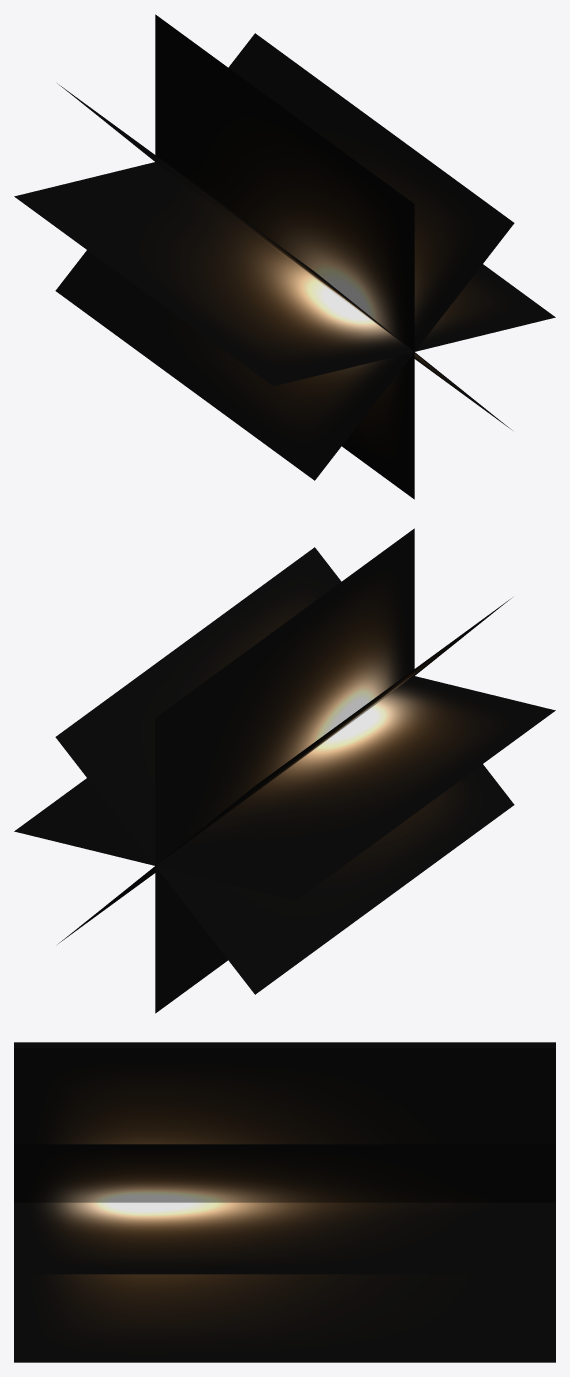
The model's file is duckov_bullet_tracer.obj.
3 views of the same model, one above another, from view 1: azimuth 30°, elevation 25°; view 2: azimuth 150°, elevation 25°; view 3: azimuth 270°, elevation 25° (orthographic). The views are drawn at different scales.
Parts seen in each view (by area): view 1: DuckovBulletTracer; view 2: DuckovBulletTracer; view 3: DuckovBulletTracer.
Part boxes in pixels (box(x1,y1,x2,y2)): DuckovBulletTracer: box(14, 14, 555, 499); DuckovBulletTracer: box(14, 528, 555, 1013); DuckovBulletTracer: box(14, 1042, 555, 1362).
Bounding box in the file's own units: 0.44 × 0.44 × 0.7.
Materials: 1 (1 with a texture image).
